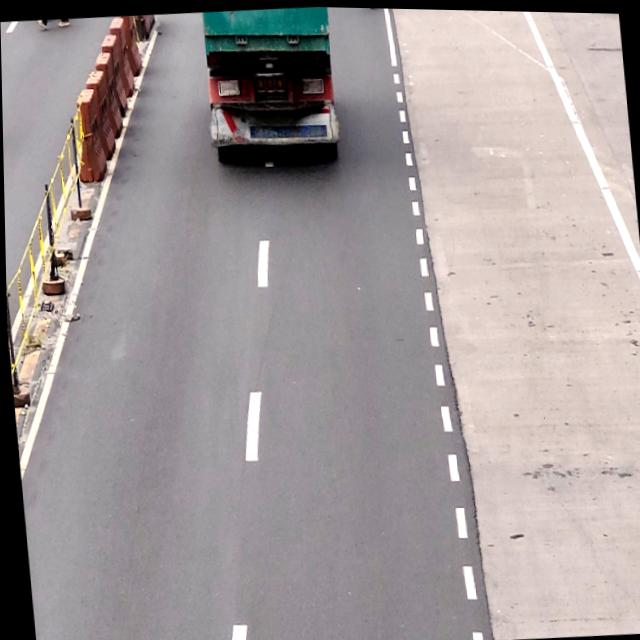Truck: (200, 3, 339, 167)
